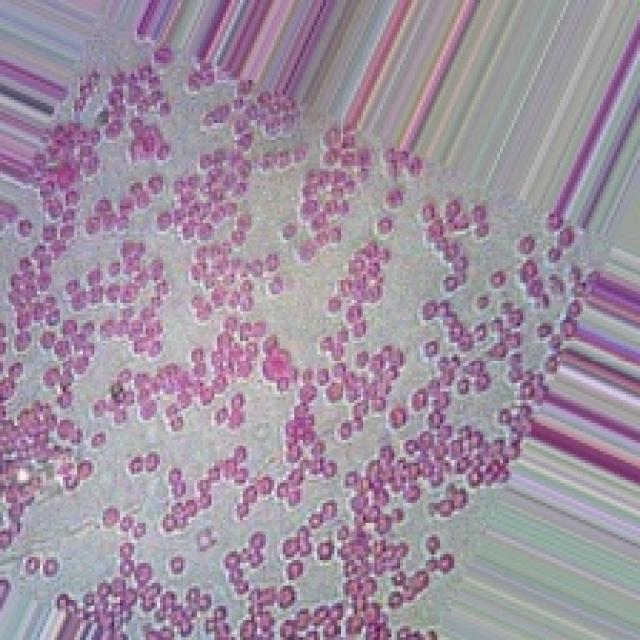Spherical_bacteria: (0, 32, 600, 637)
